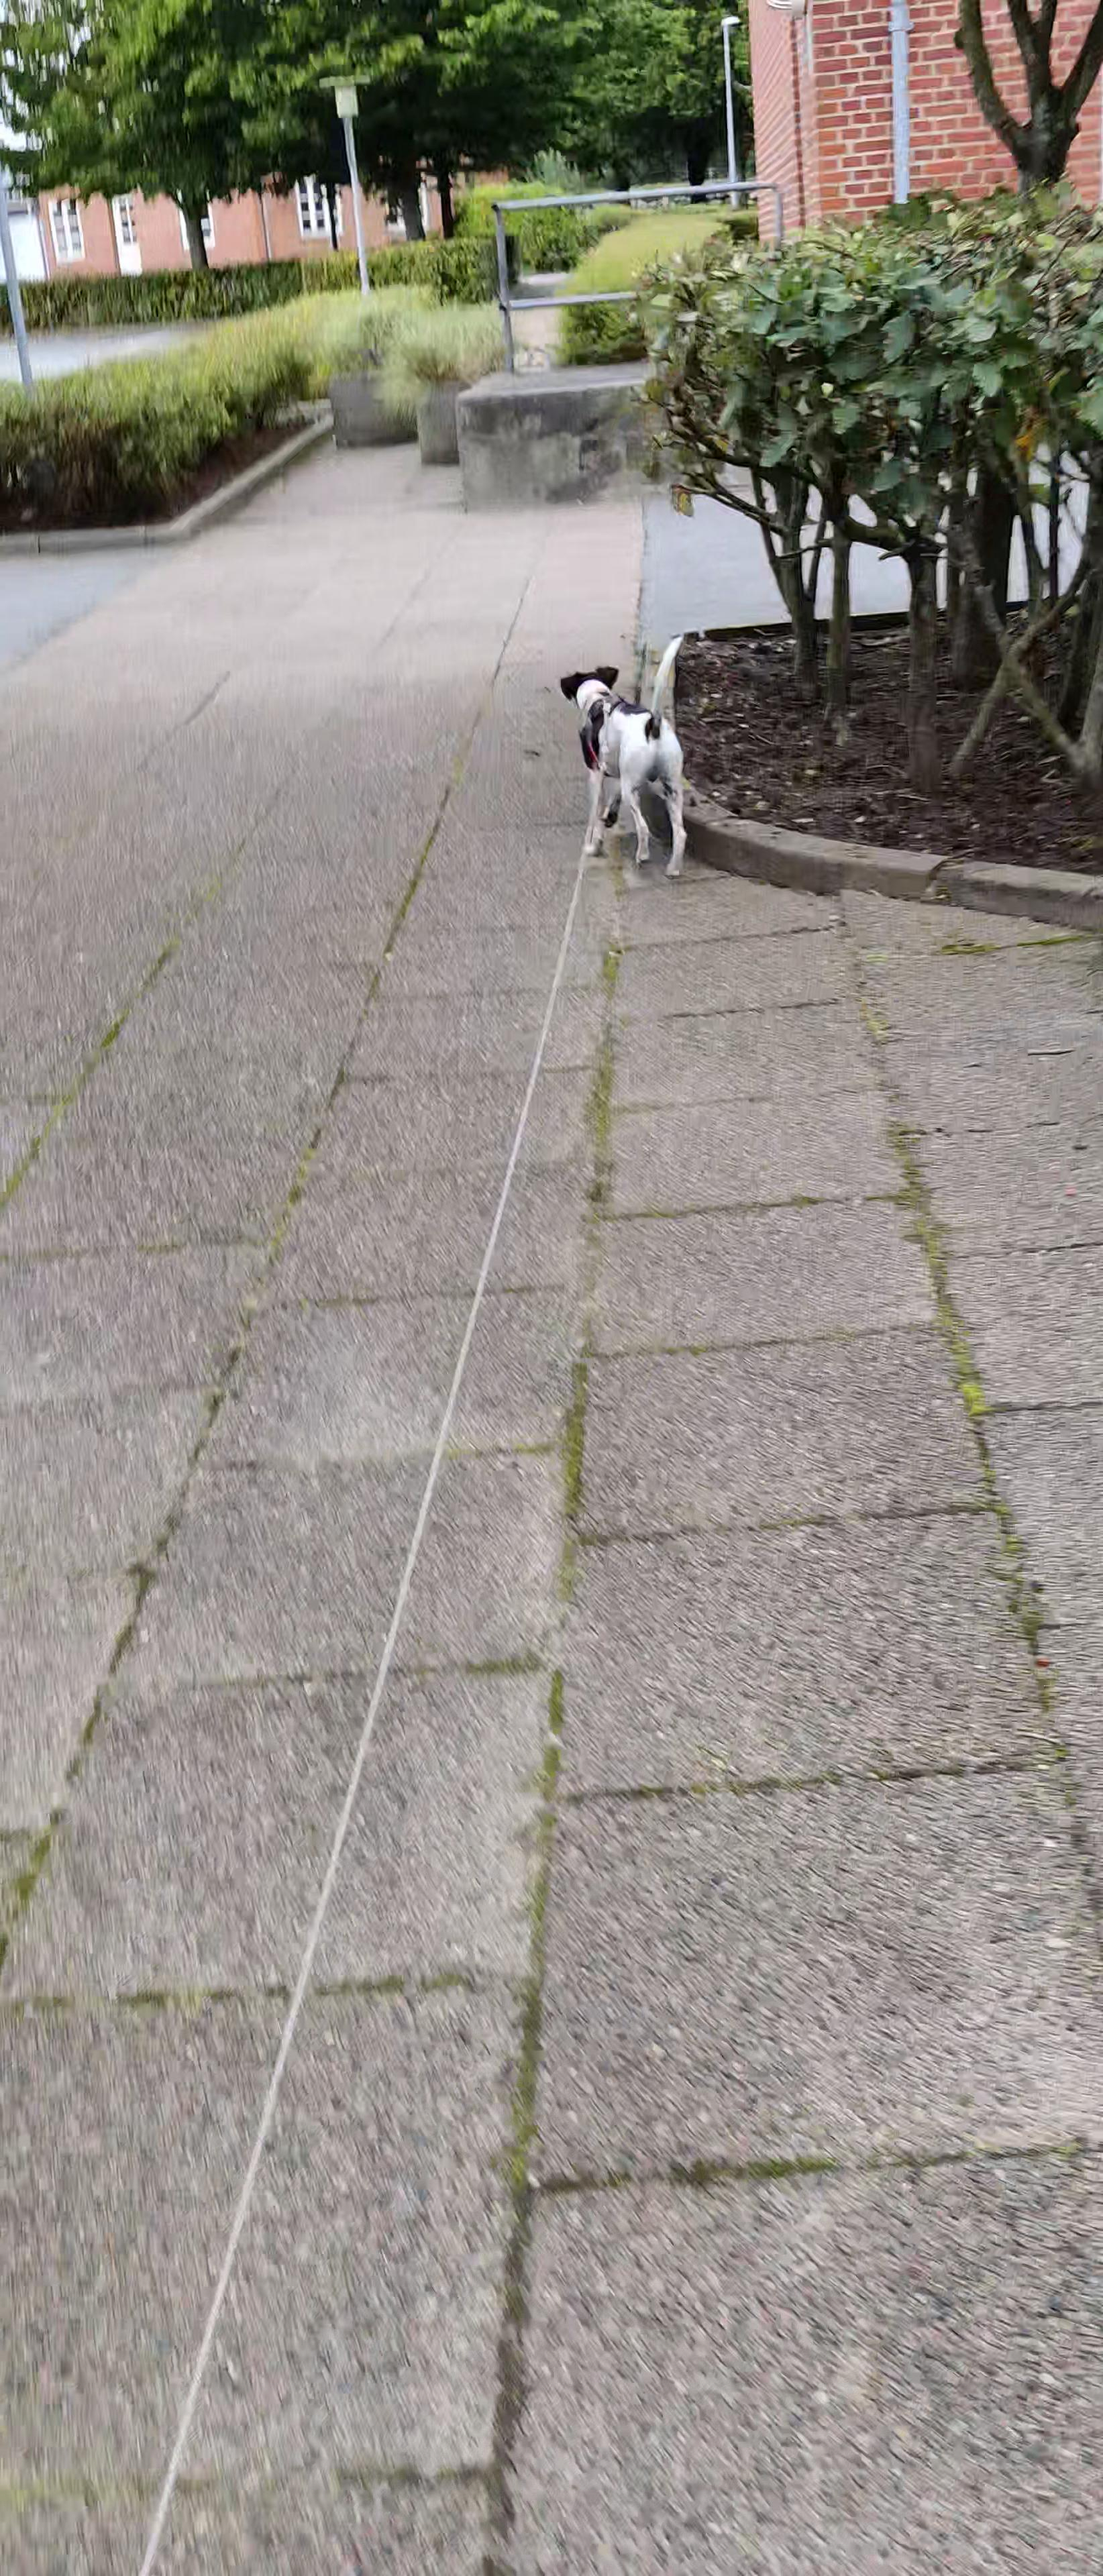Dog: (556, 636, 695, 879)
